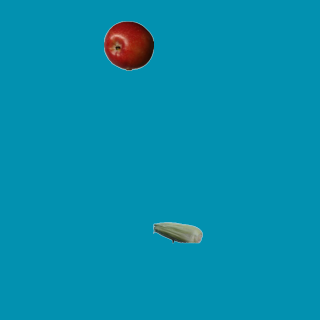Apple Braeburn: (103, 20, 153, 70)
Corn Husk: (152, 207, 202, 257)
